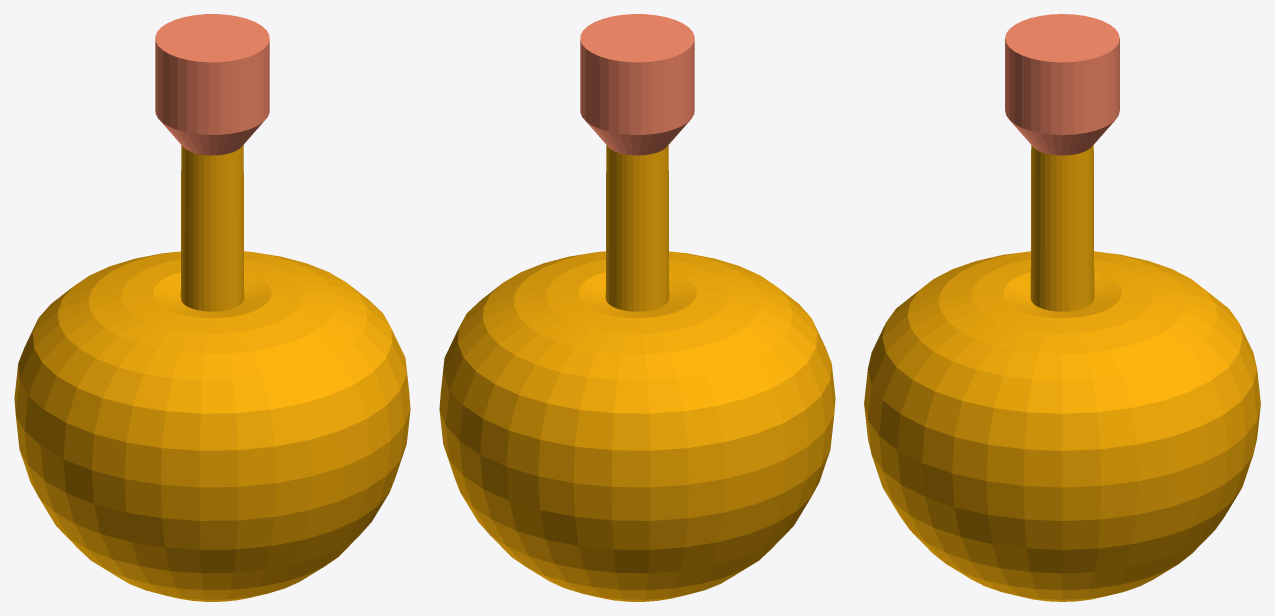
The model's file is M_JugoFrutas_03.fbx.
3 renders of one model, left to right at view 1: azimuth 30°, elevation 25°; view 2: azimuth 150°, elevation 25°; view 3: azimuth 270°, elevation 25°, orthographic.
Visible parts, largest first — view 1: Sphere; view 2: Sphere; view 3: Sphere.
Boxes of the visible parts, x1,y1,x2,y2 form: Sphere: [14, 14, 410, 601]; Sphere: [439, 14, 835, 601]; Sphere: [864, 14, 1260, 601].
Bounding box in the file's own units: 0.3207 × 0.4831 × 0.3207.
